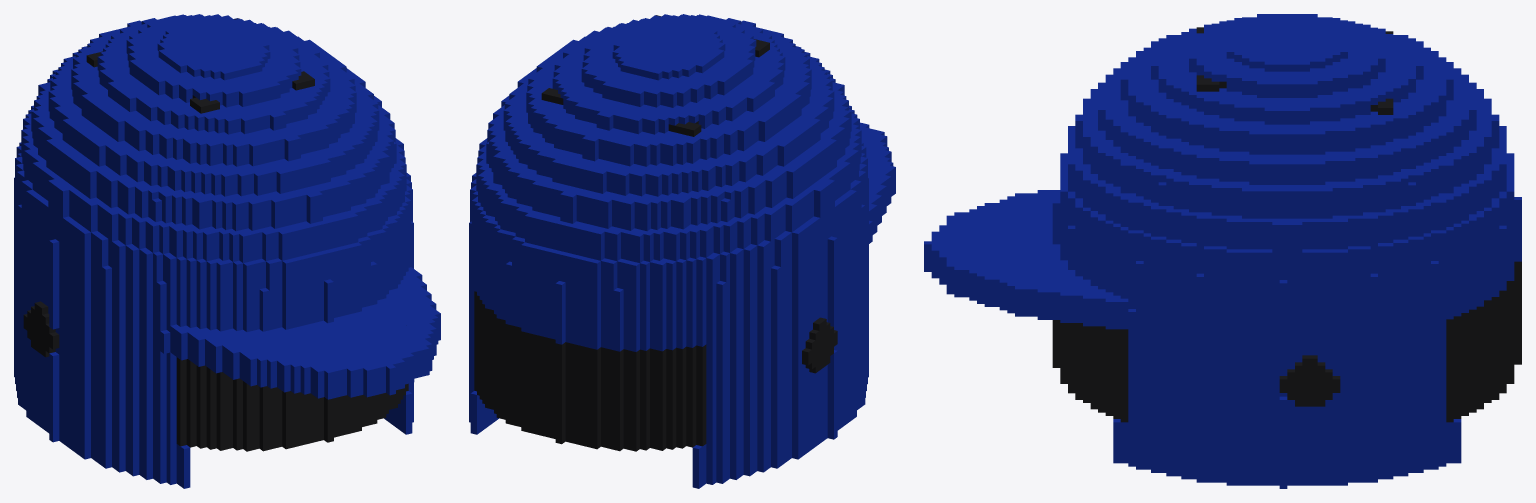
Rendered from helmet_ball.glb.
The picture shows the model from 3 angles, left to right: view 1: azimuth 30°, elevation 25°; view 2: azimuth 150°, elevation 25°; view 3: azimuth 270°, elevation 25°; orthographic projection. The views are drawn at different scales.
Parts seen in each view (by area): view 1: helmet_ball:compound; view 2: helmet_ball:compound; view 3: helmet_ball:compound.
Boxes of the visible parts, x1,y1,x2,y2 form: helmet_ball:compound: (14,14,440,488); helmet_ball:compound: (469,14,895,488); helmet_ball:compound: (924,14,1521,488).
Size of the model in its own units: 0.208 by 0.212 by 0.316.
